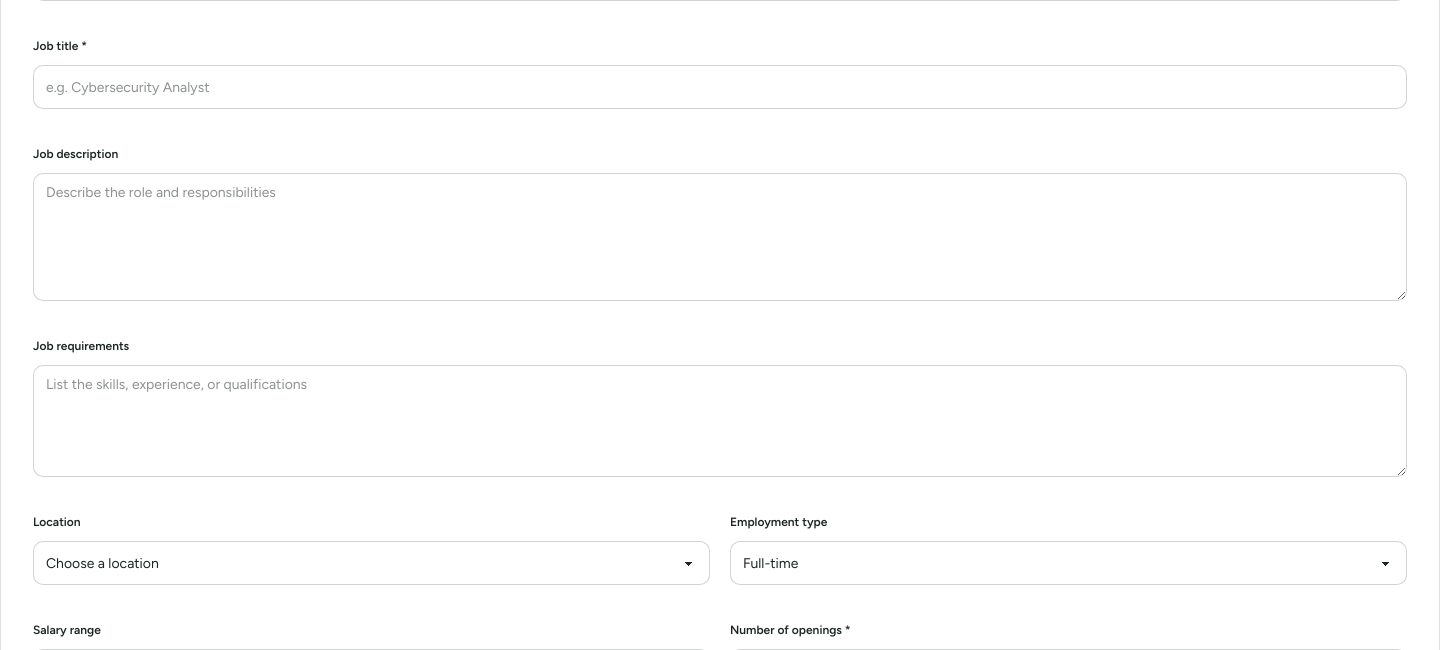
PostingForm › submits the saved draft for approval
(page scrolled)
Submit the form
(page scrolled)
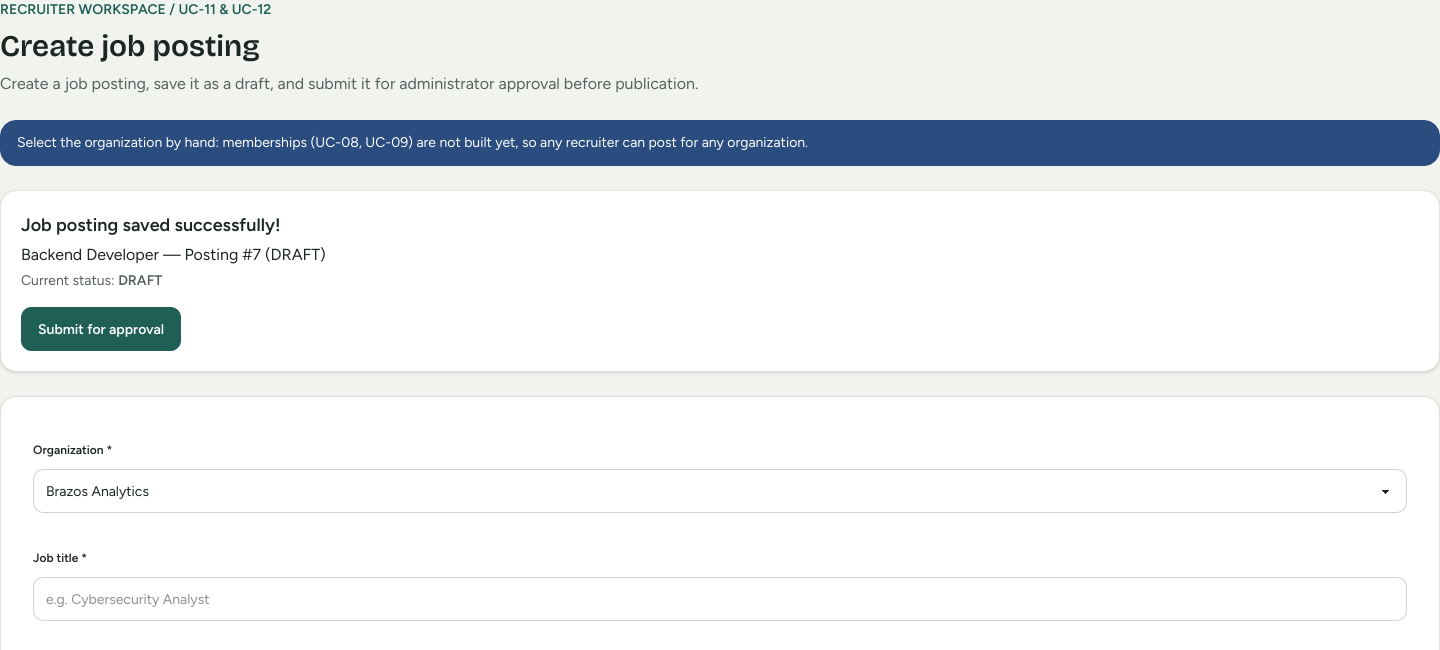
Click the button "Submit for approval" at x=101, y=329, box [21,307,181,351]
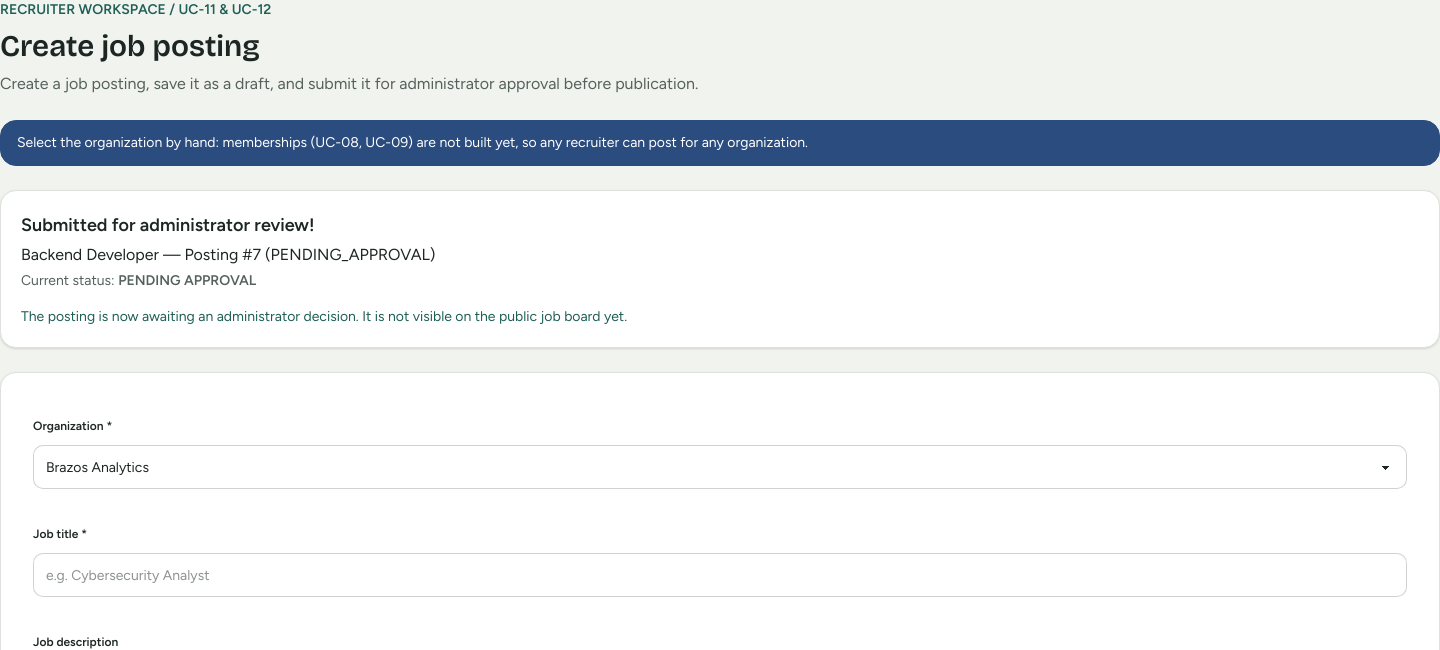
Result: the heading "Submitted for administrator review!" is shown at [21,214,314,236]
